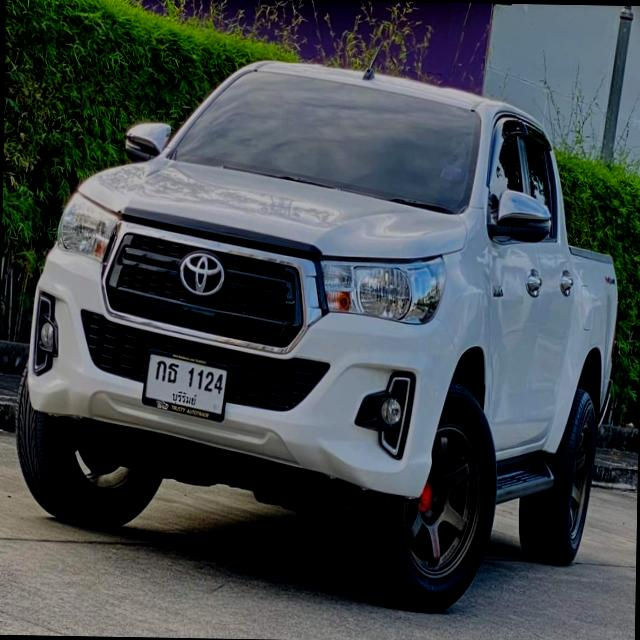license_plate: (140, 342, 234, 423)
